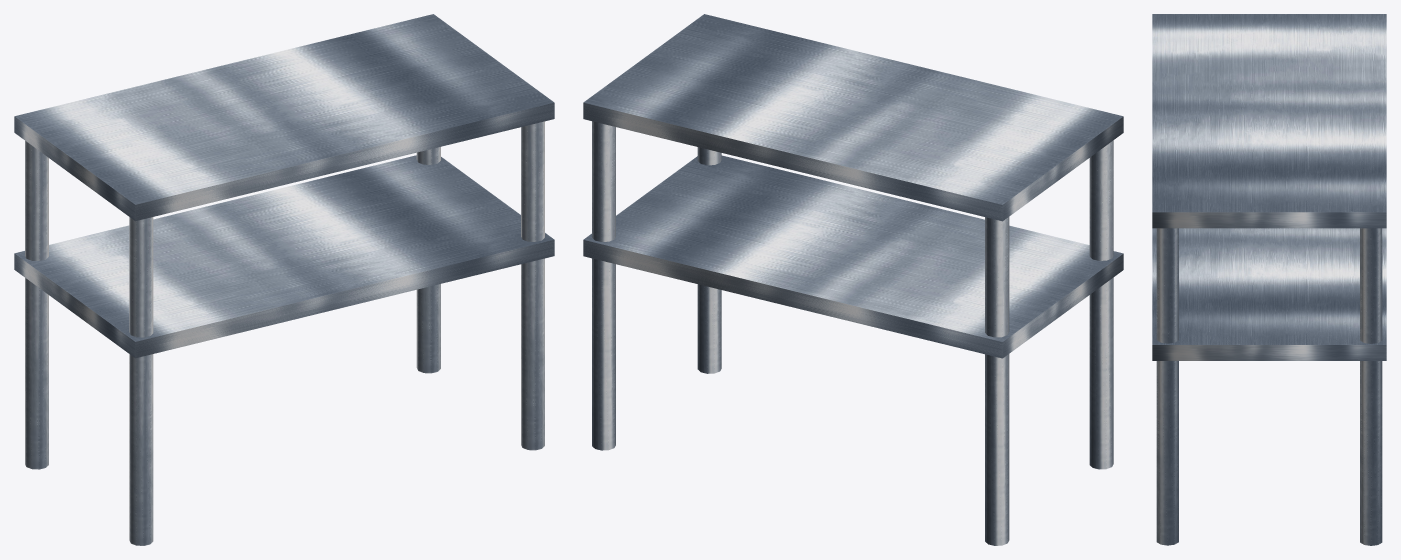
File: Table.FBX
3 renders of one model, left to right at view 1: azimuth 30°, elevation 25°; view 2: azimuth 150°, elevation 25°; view 3: azimuth 270°, elevation 25°, orthographic. The views are drawn at different scales.
Parts seen in each view (by area): view 1: Box002; view 2: Box002; view 3: Box002.
Boxes of the visible parts, x1,y1,x2,y2 form: Box002: [14, 14, 554, 545]; Box002: [583, 14, 1123, 545]; Box002: [1152, 14, 1386, 545].
Bounding box in the file's own units: 31.5 × 24.8 × 15.75.
Materials: 1 (1 with a texture image).
